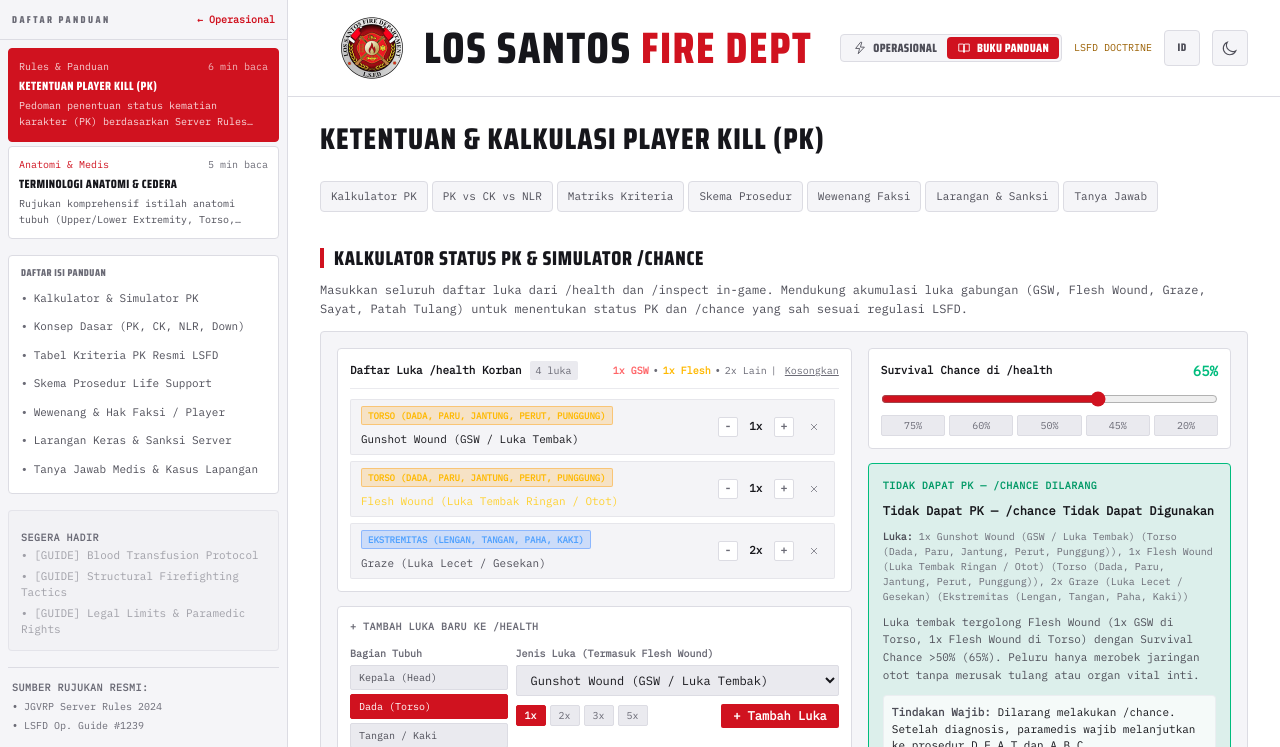
it: mode switcher & guide mode › dapat berpindah kembali ke mode operasional
What coordinates should you click on to do the following:
click the tab "Operasional"
I would click on:
 (895, 48)
Its box is x1=843 y1=37 x2=947 y2=59.
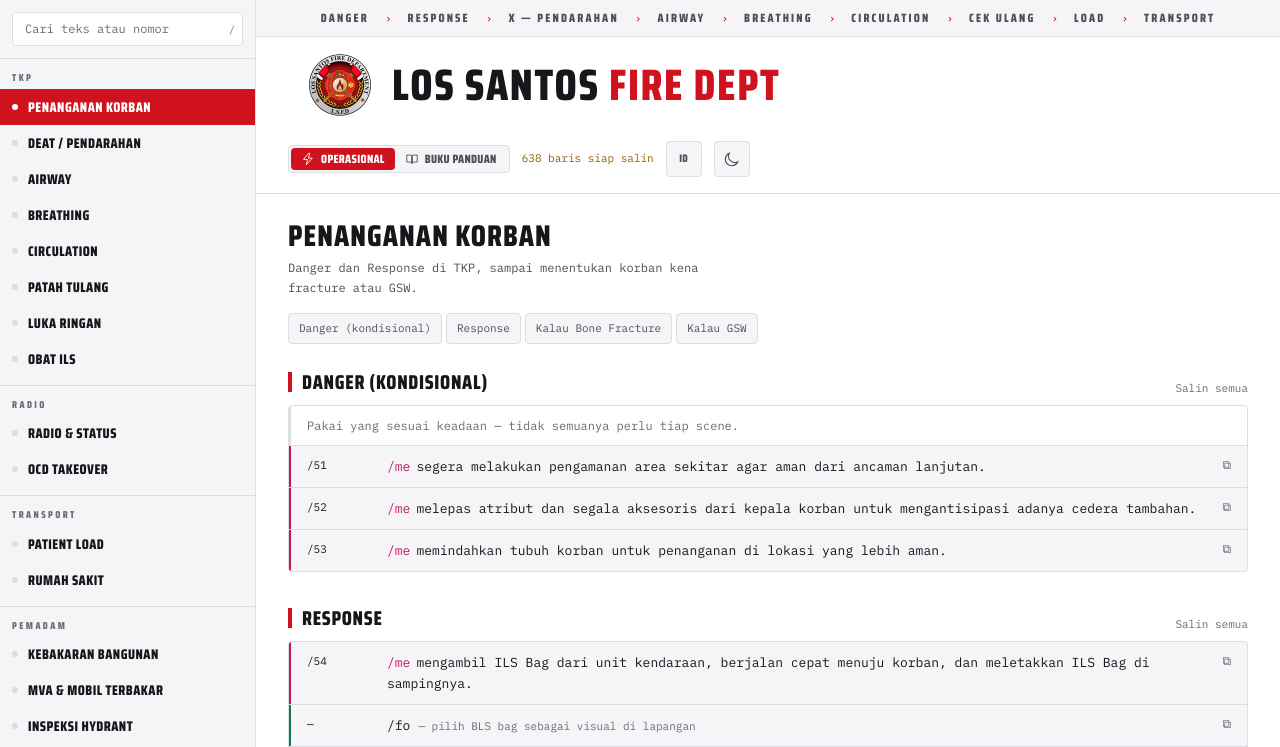
Now the text "Danger (kondisional)" is shown, box x1=288 y1=313 x2=442 y2=344
